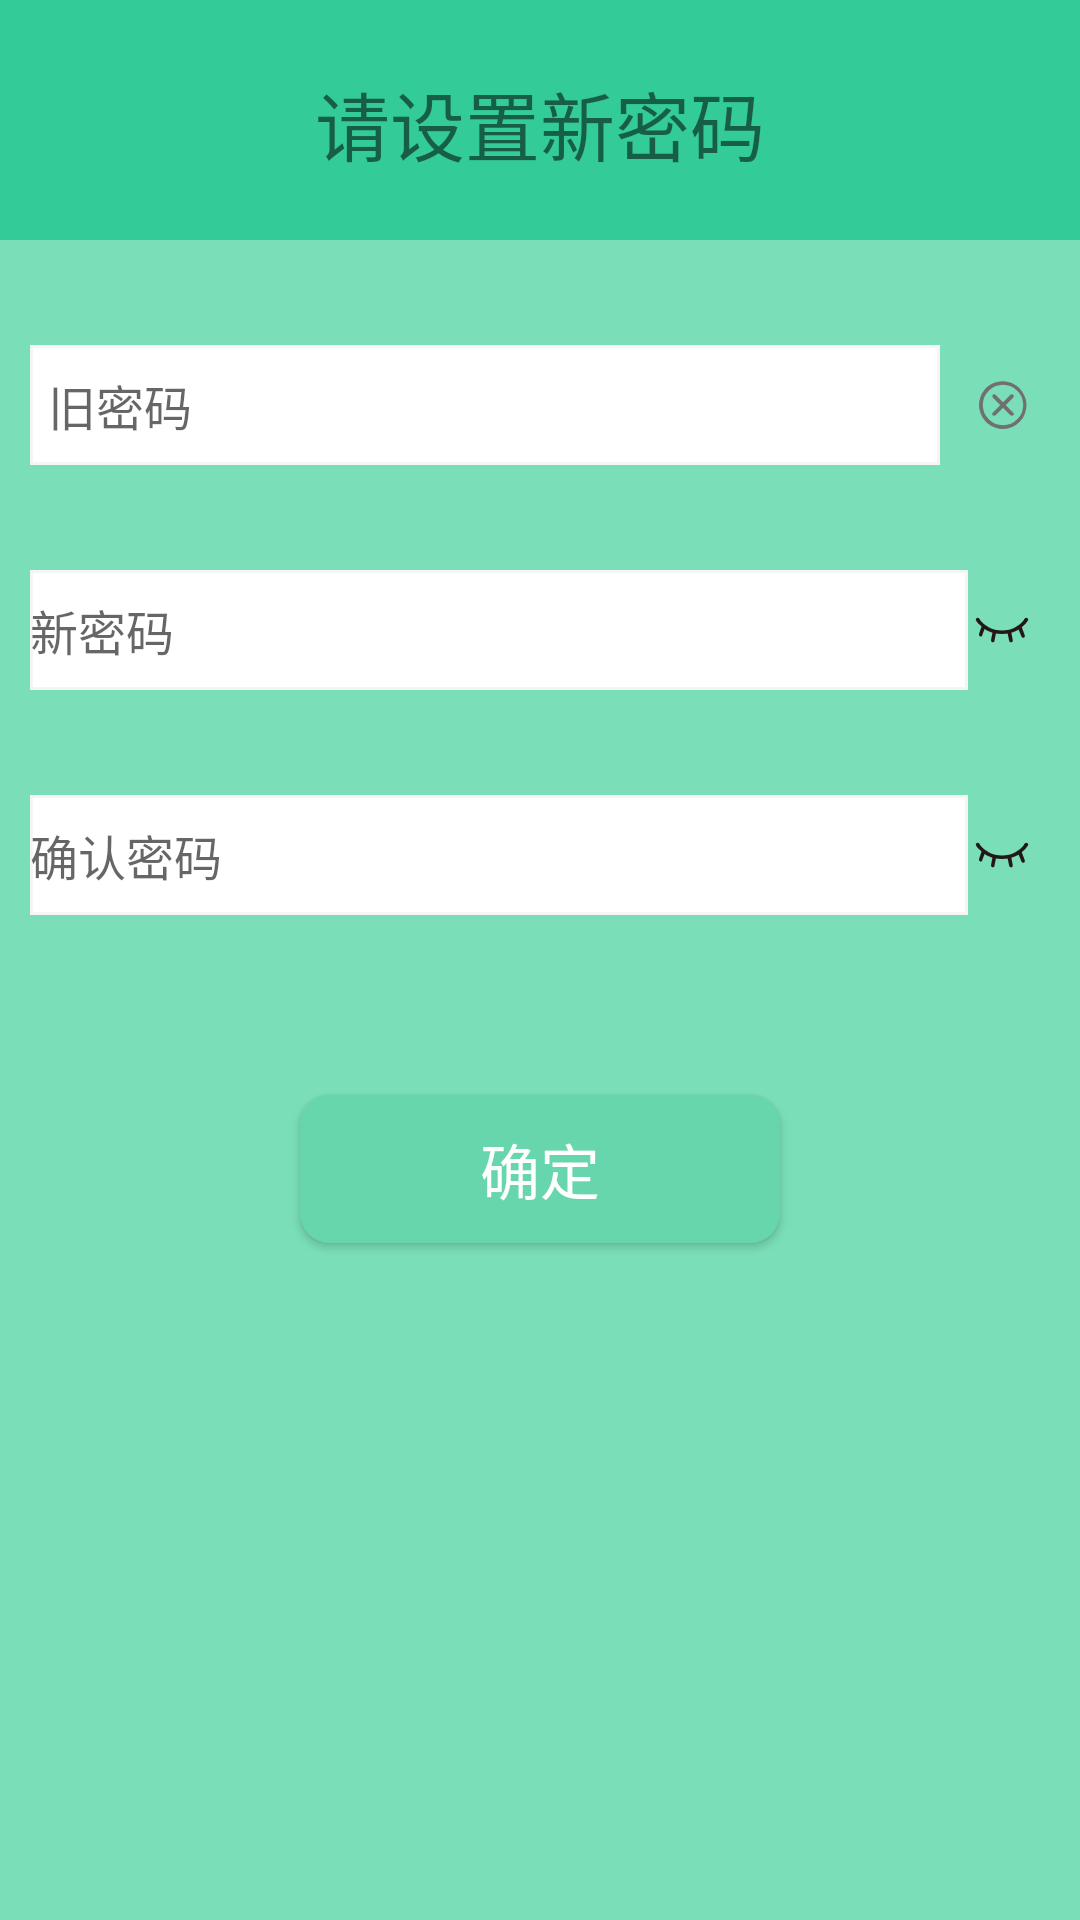

Point at icon controls on the screen. Image size 1080 x 1920, points as point (x, y).
chahao: point (1003, 405)
yincang: point (1002, 630), point (1002, 855)
